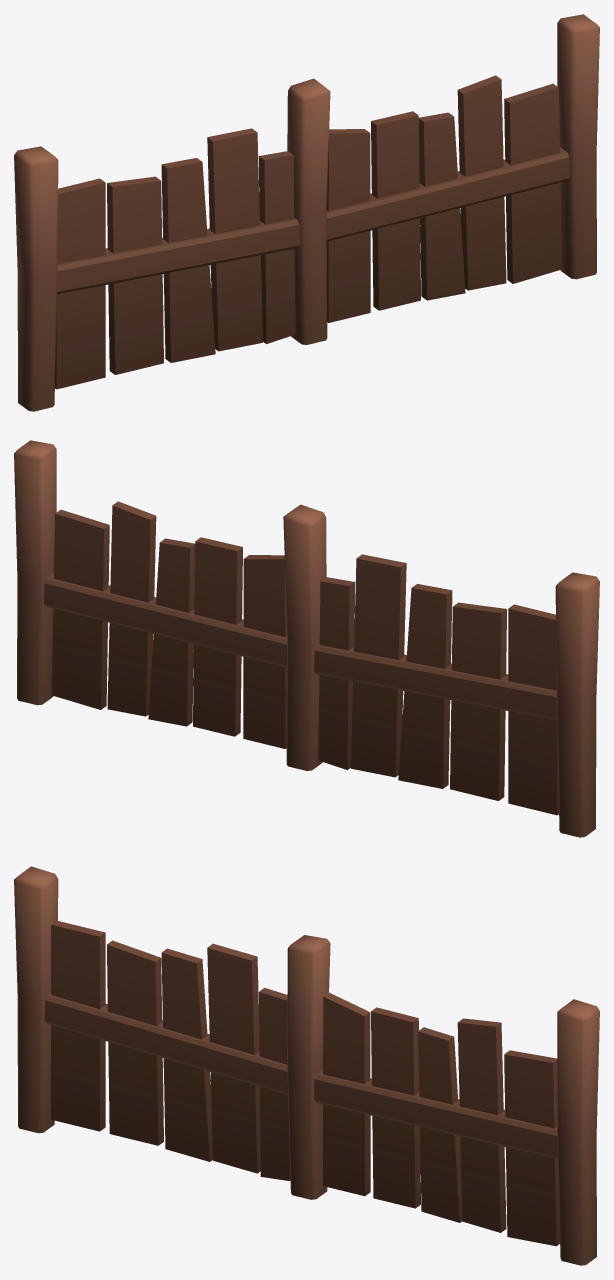
The model's file is WallFence_1_1_D.fbx.
3 renders of one model, top to bottom at view 1: azimuth 30°, elevation 25°; view 2: azimuth 150°, elevation 25°; view 3: azimuth 330°, elevation 25°, orthographic.
Parts seen in each view (by area): view 1: WallFence_1_1_D; view 2: WallFence_1_1_D; view 3: WallFence_1_1_D.
Boxes of the visible parts, <box> form: WallFence_1_1_D: <box>14,14,599,411</box>; WallFence_1_1_D: <box>14,440,599,837</box>; WallFence_1_1_D: <box>14,866,599,1265</box>.
Size of the model in its own units: 210 by 88.03 by 11.27.
